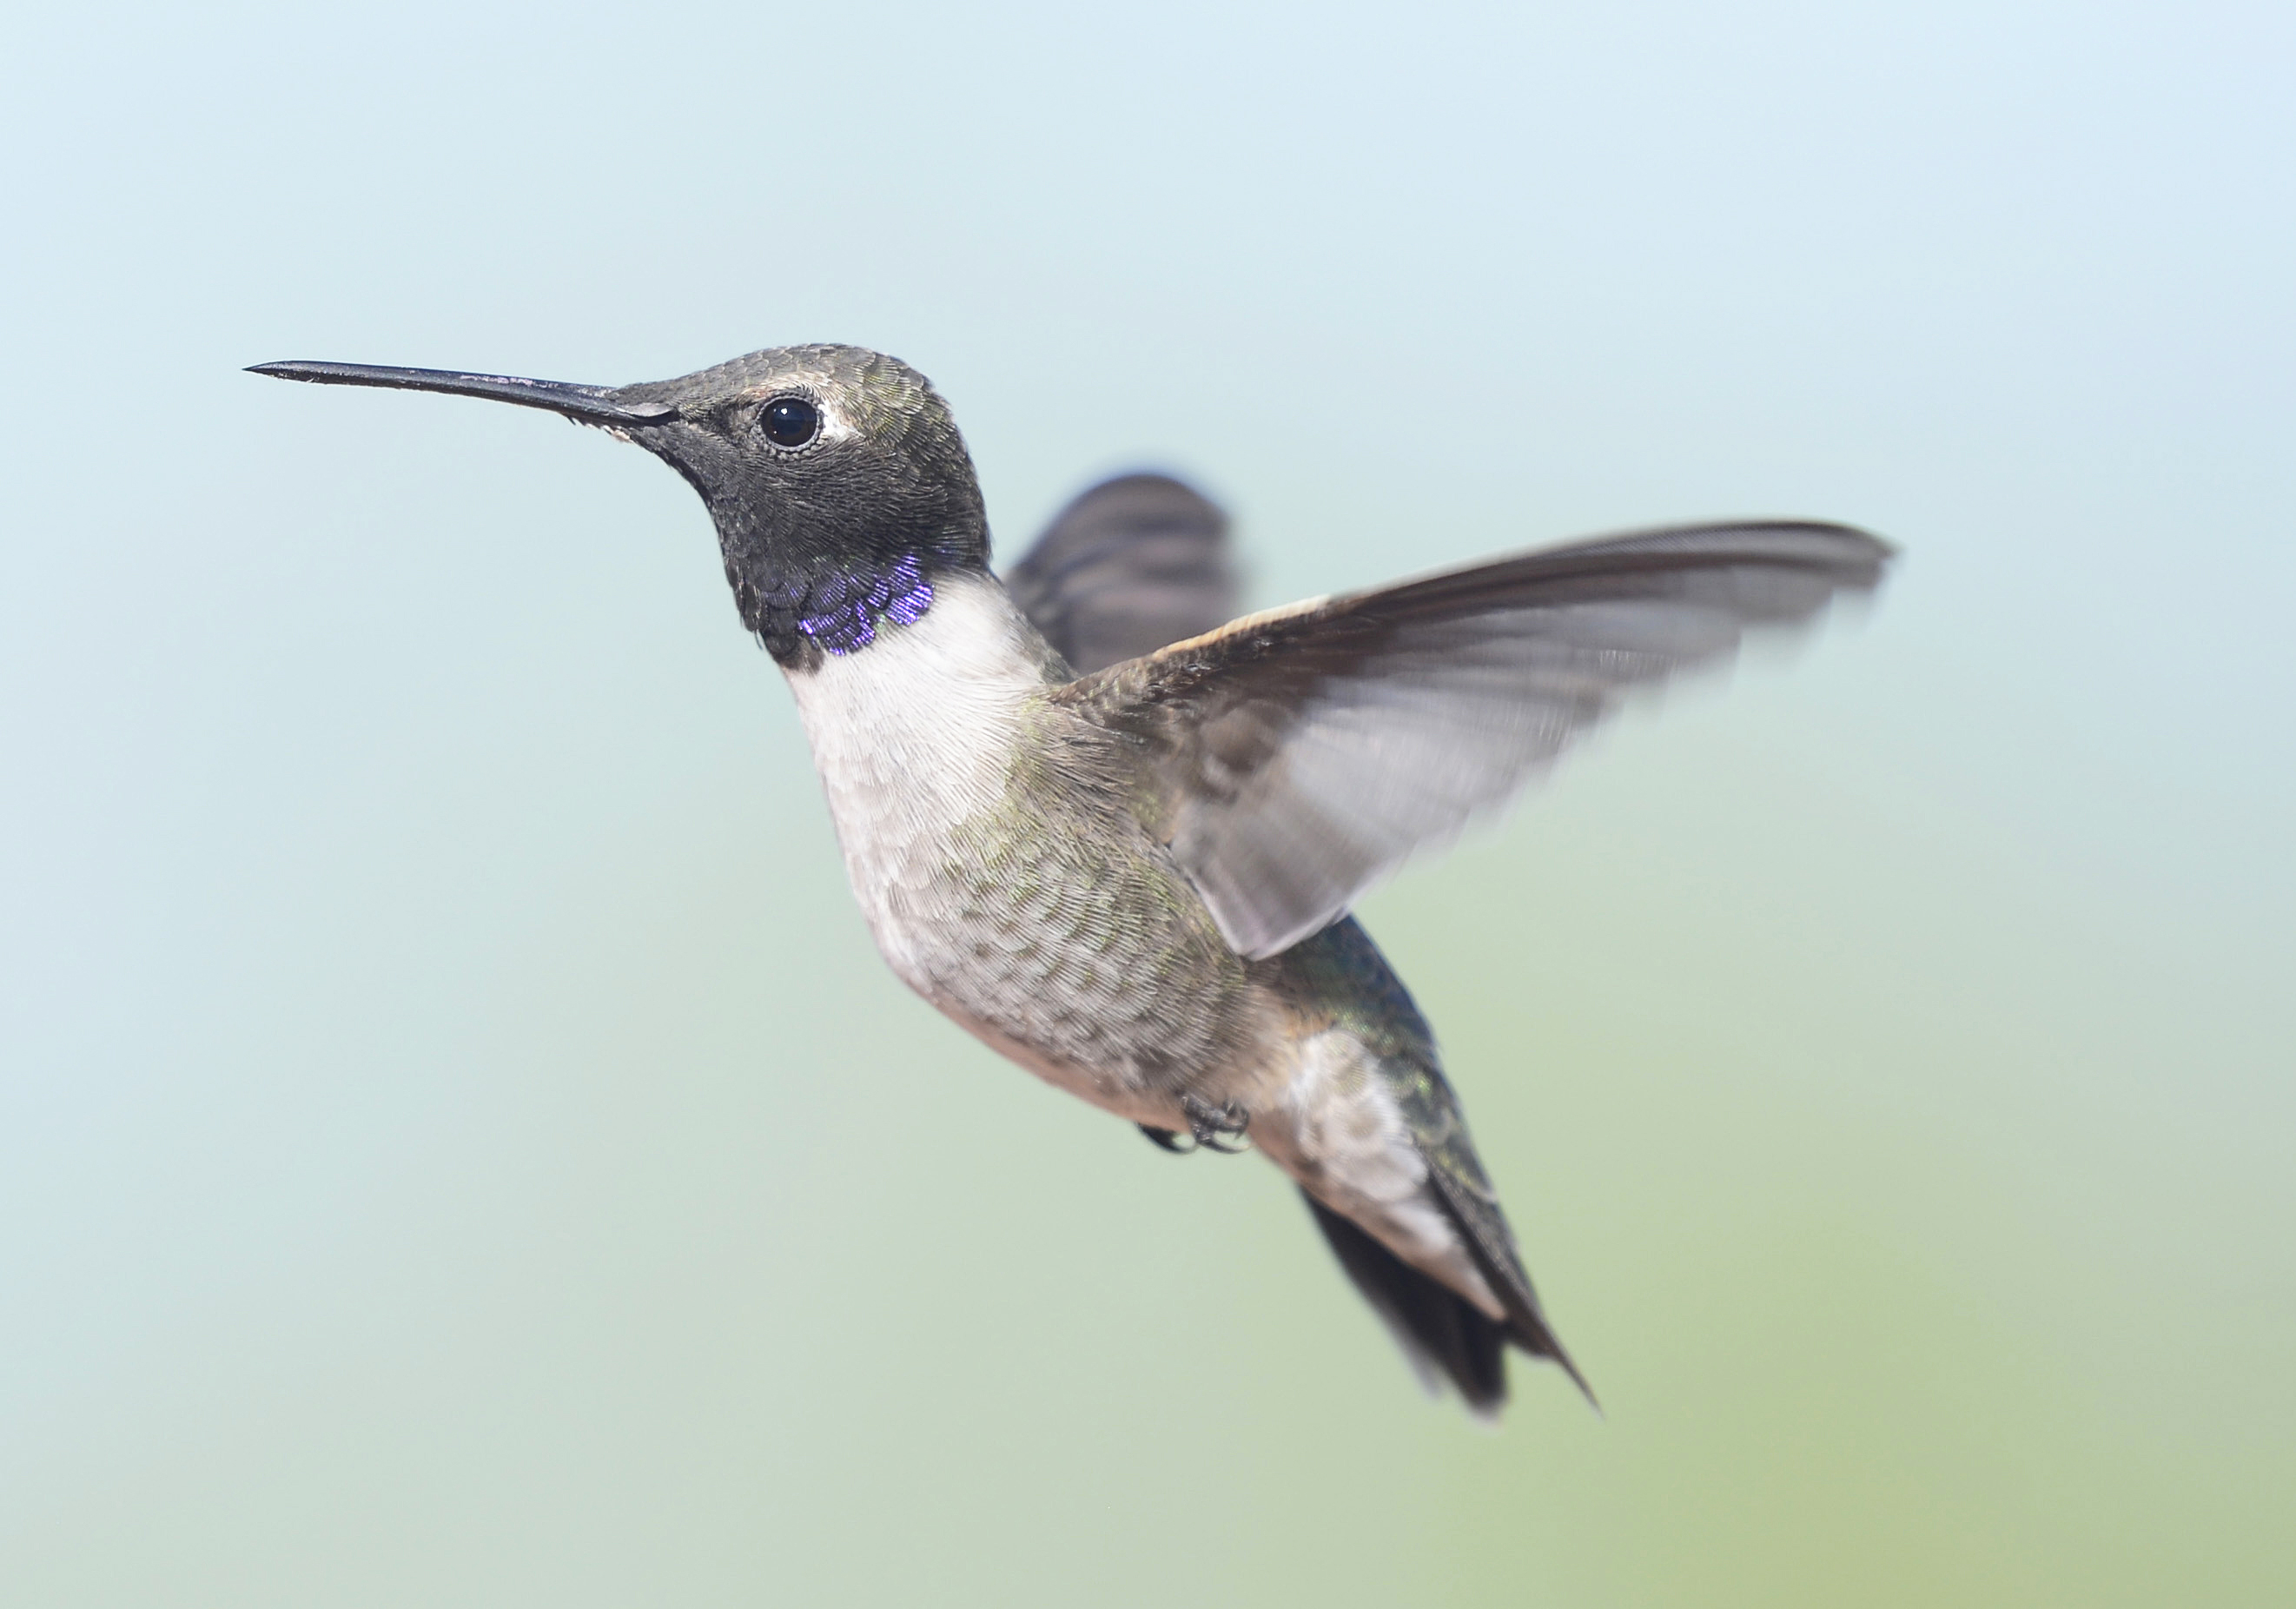archilochus alexandri: (239, 346, 1895, 1419)
